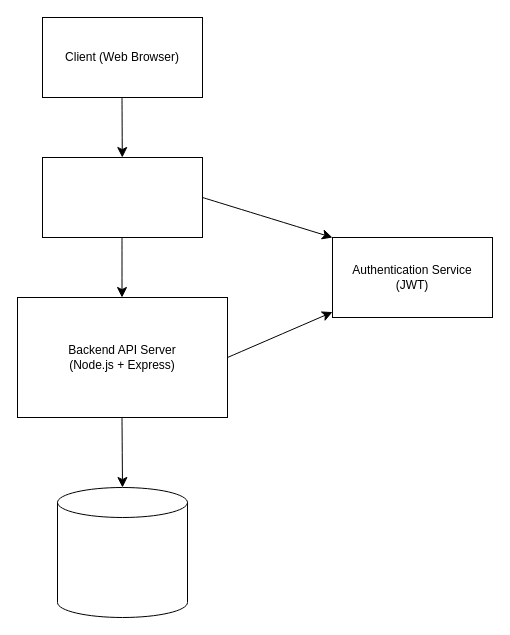
Image size: 510x635. Some labels were removed from this diagram. Each missing label, with the centre of its shape:
"Frontend Application (React.js)" belongs at (x=122, y=197).
"MongoDB Database" belongs at (x=122, y=552).
